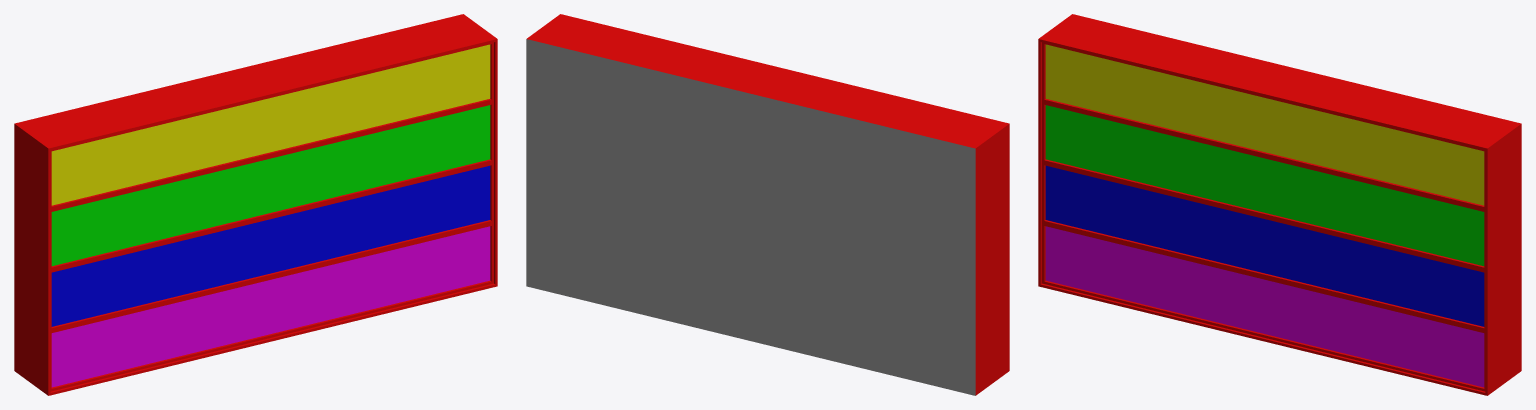
File: BookShelf.fbx
The picture shows the model from 3 angles, left to right: view 1: azimuth 30°, elevation 25°; view 2: azimuth 150°, elevation 25°; view 3: azimuth 330°, elevation 25°; orthographic projection.
Parts seen in each view (by area): view 1: pCube1; view 2: pCube1; view 3: pCube1.
Boxes of the visible parts, x1,y1,x2,y2 form: pCube1: (14,14,497,395); pCube1: (526,14,1009,395); pCube1: (1038,14,1521,395).
Size of the model in its own units: 380 by 200 by 50.
